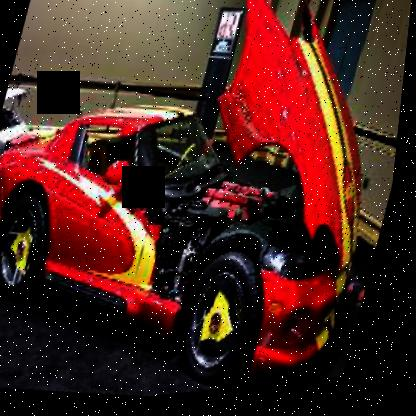not_emergency: (0, 53, 403, 415)
